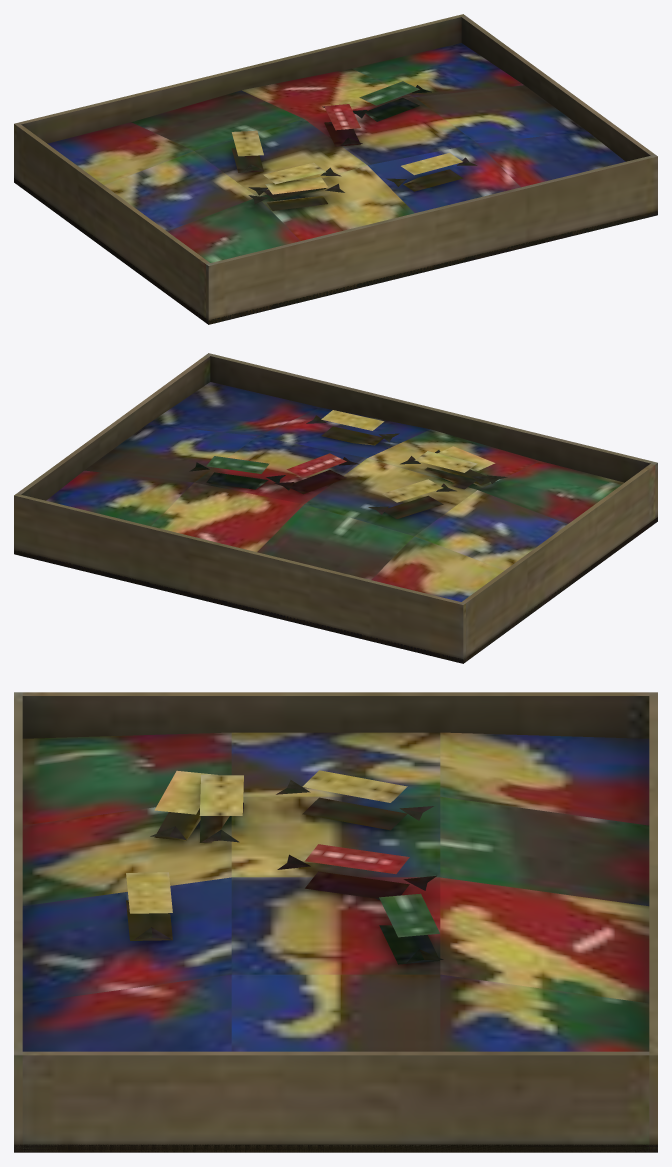
File: candy_tray_lod1_web.glb
The picture shows the model from 3 angles, top to bottom: view 1: azimuth 30°, elevation 25°; view 2: azimuth 150°, elevation 25°; view 3: azimuth 270°, elevation 25°; orthographic projection. The views are drawn at different scales.
Parts seen in each view (by area): view 1: CandyTray_Body; view 2: CandyTray_Body; view 3: CandyTray_Body.
Boxes of the visible parts, x1,y1,x2,y2 form: CandyTray_Body: [14, 14, 657, 324]; CandyTray_Body: [14, 353, 657, 663]; CandyTray_Body: [14, 692, 657, 1152].
Size of the model in its own units: 0.4 by 0.0629 by 0.3.
Materials: 1 (1 with a texture image).
